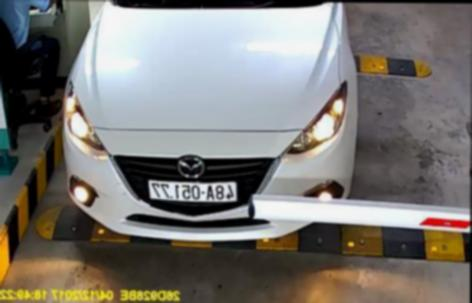License_Plate: (147, 177, 240, 204)
